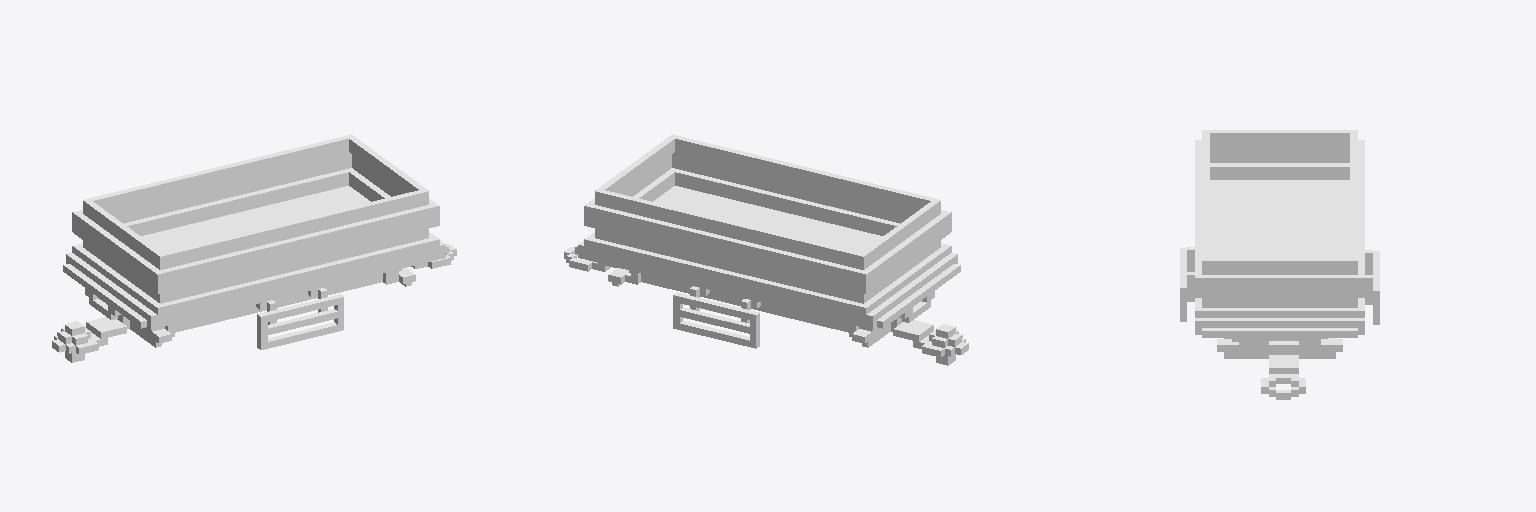
The model's file is Pickup-Trailer-(Purple).obj.
3 views of the same model, side by side, from view 1: azimuth 30°, elevation 25°; view 2: azimuth 150°, elevation 25°; view 3: azimuth 270°, elevation 25° (orthographic).
Visible parts, largest first — view 1: object 1; view 2: object 1; view 3: object 1.
Part boxes in pixels (x1,y1,x2,y2): object 1: (52,134,456,362); object 1: (564,134,968,365); object 1: (1180,130,1379,399).
Bounding box in the file's own units: 6.2 × 1.8 × 2.7.